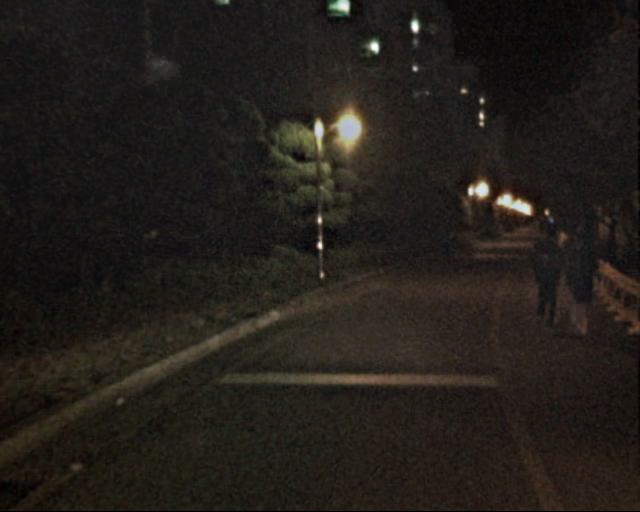person: (521, 228, 566, 338), (552, 232, 596, 340)
